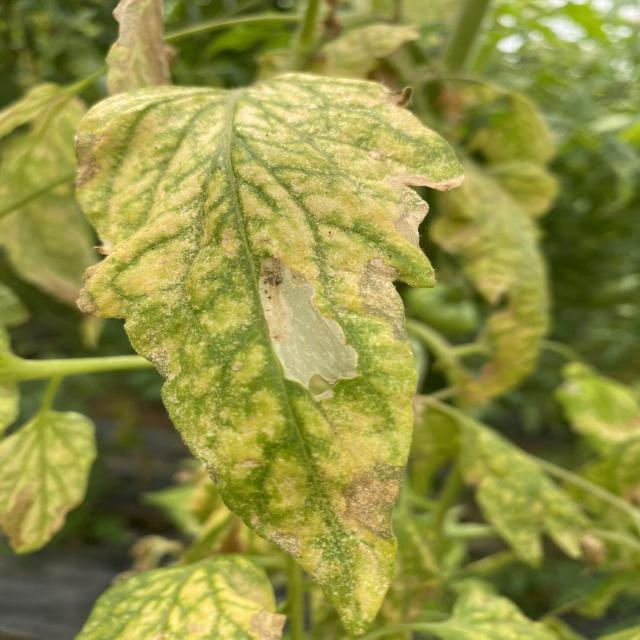Tuta absoluta: (242, 242, 367, 406), (341, 461, 401, 540), (356, 257, 406, 344)
